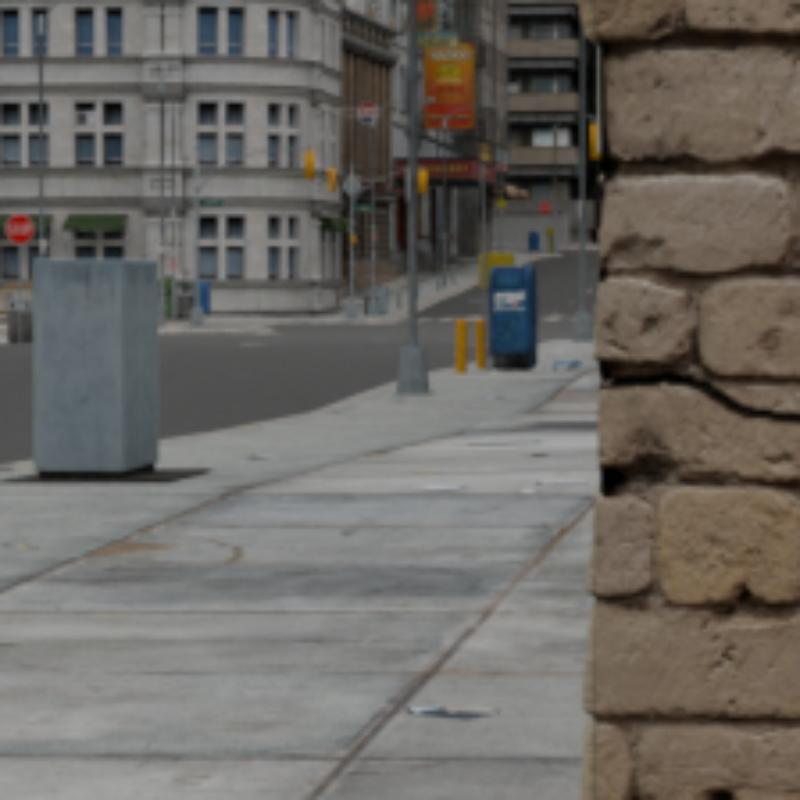crack: (599, 360, 796, 421)
